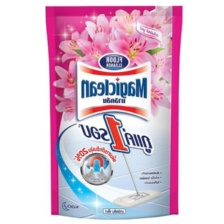cleaning_solution: (42, 1, 185, 222)
